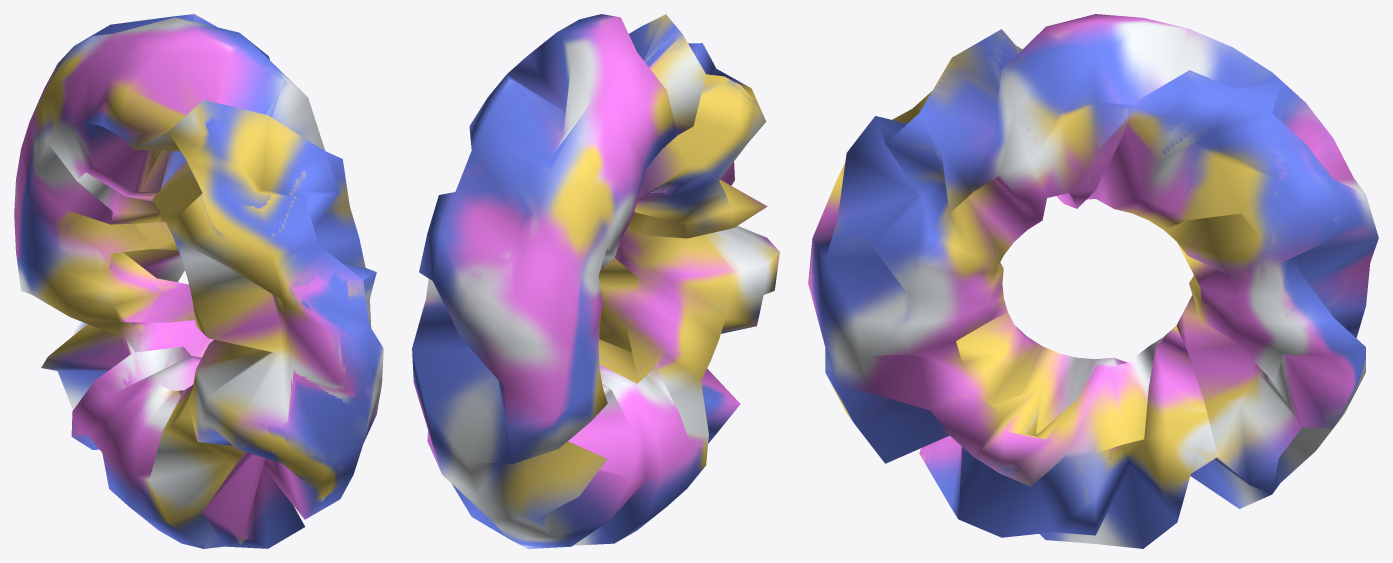
File: donut1.gltf
The picture shows the model from 3 angles, left to right: view 1: azimuth 30°, elevation 25°; view 2: azimuth 150°, elevation 25°; view 3: azimuth 270°, elevation 25°; orthographic projection. The views are drawn at different scales.
Visible parts, largest first — view 1: Torus; view 2: Torus; view 3: Torus.
Boxes of the visible parts, x1,y1,x2,y2 form: Torus: (14, 14, 383, 548); Torus: (412, 14, 779, 548); Torus: (808, 14, 1378, 548).
Bounding box in the file's own units: 0.5 × 1.48 × 1.47.
Materials: 1 (1 with a texture image).
